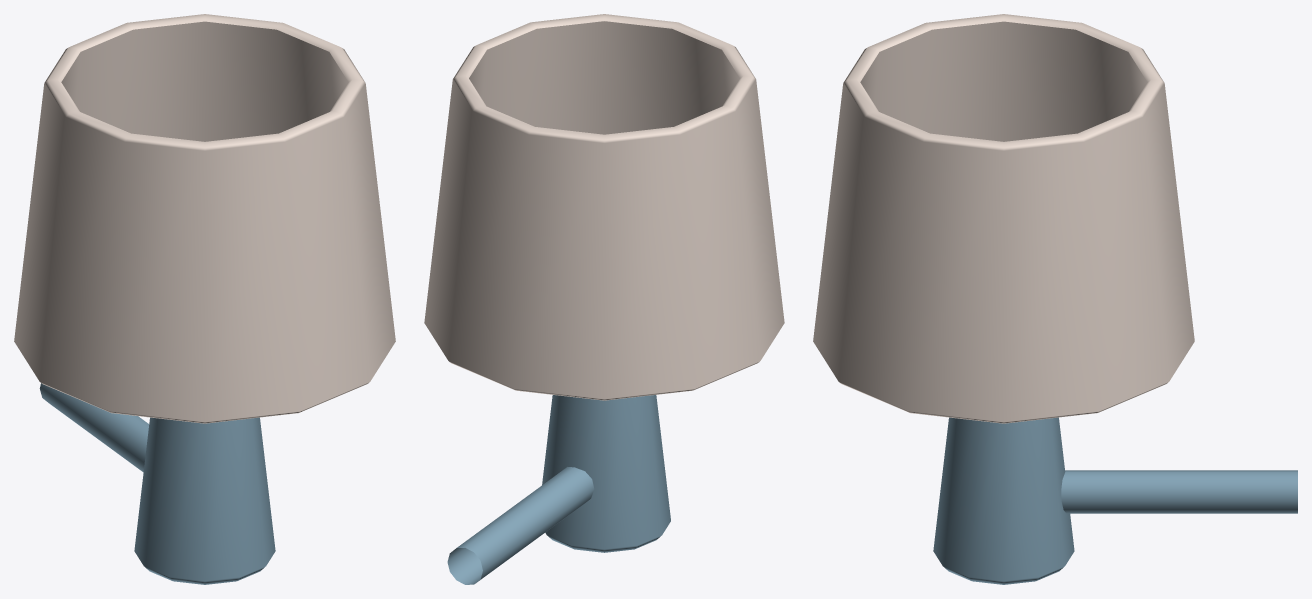
File: Lamp_6.glb
The picture shows the model from 3 angles, left to right: view 1: azimuth 30°, elevation 25°; view 2: azimuth 150°, elevation 25°; view 3: azimuth 270°, elevation 25°; orthographic projection. The views are drawn at different scales.
Parts seen in each view (by area): view 1: Lamp_6; view 2: Lamp_6; view 3: Lamp_6.
Boxes of the visible parts, bbox=[...] form: Lamp_6: bbox=[14, 14, 395, 584]; Lamp_6: bbox=[424, 14, 784, 584]; Lamp_6: bbox=[813, 14, 1297, 584].
Bounding box in the file's own units: 0.4805 × 0.6716 × 0.6103.
Materials: 2 (1 with a texture image).
